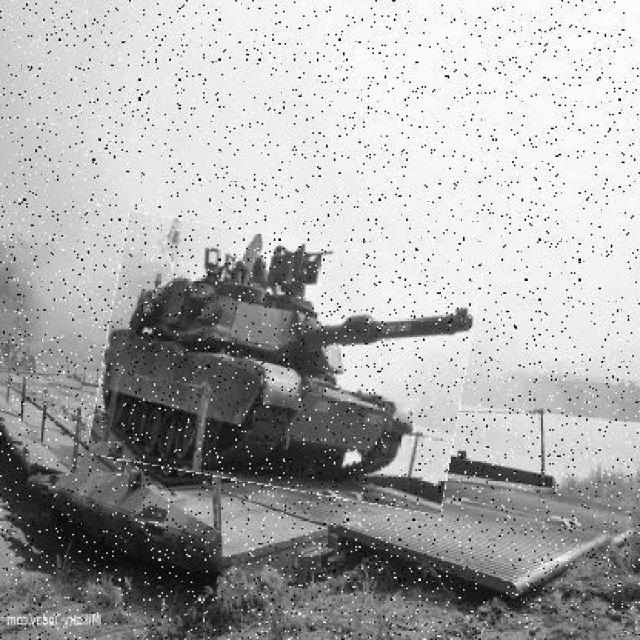Person: (233, 259, 272, 301)
Tank: (98, 227, 475, 503)
